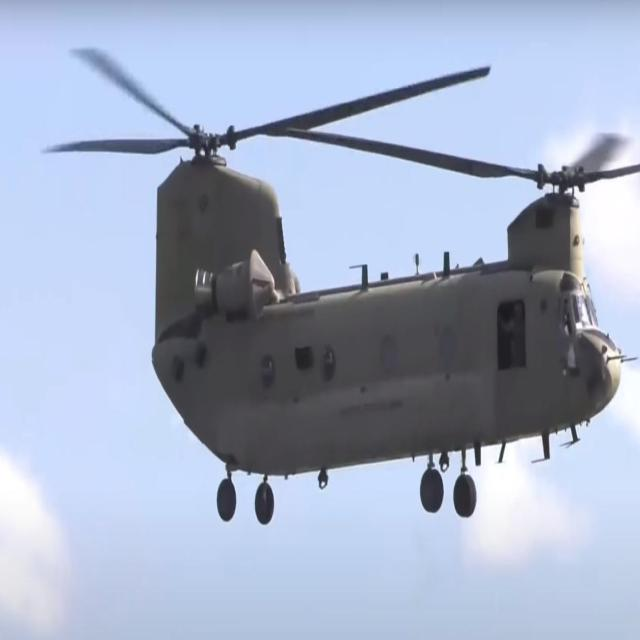Helicopter: (142, 134, 628, 538)
